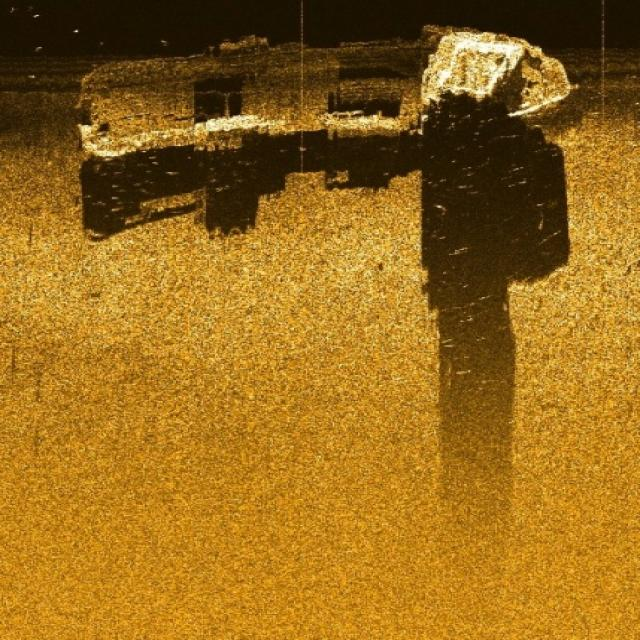ship: (75, 26, 589, 162)
